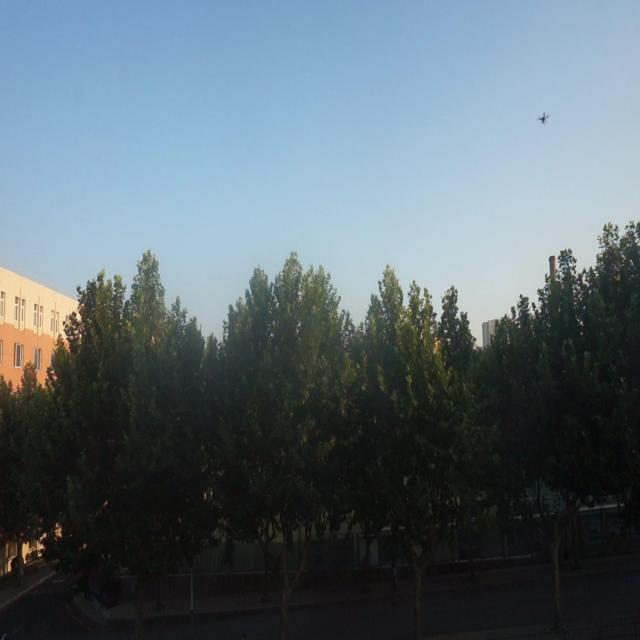UAV: (536, 110, 550, 125)
